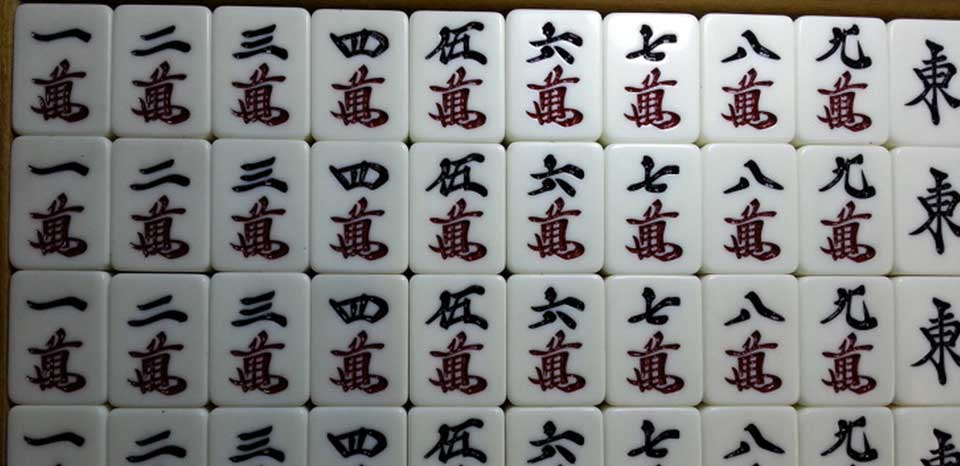honour_1: (897, 274, 960, 404)
man_1: (13, 4, 111, 131)
man_2: (111, 140, 211, 272)
man_3: (207, 269, 307, 412)
man_4: (309, 137, 415, 276)
man_5: (411, 10, 504, 138)
man_6: (509, 272, 611, 406), (506, 12, 606, 147)
man_7: (607, 142, 709, 278), (604, 10, 699, 142)
man_8: (700, 138, 802, 276)
man_9: (800, 146, 891, 269)
